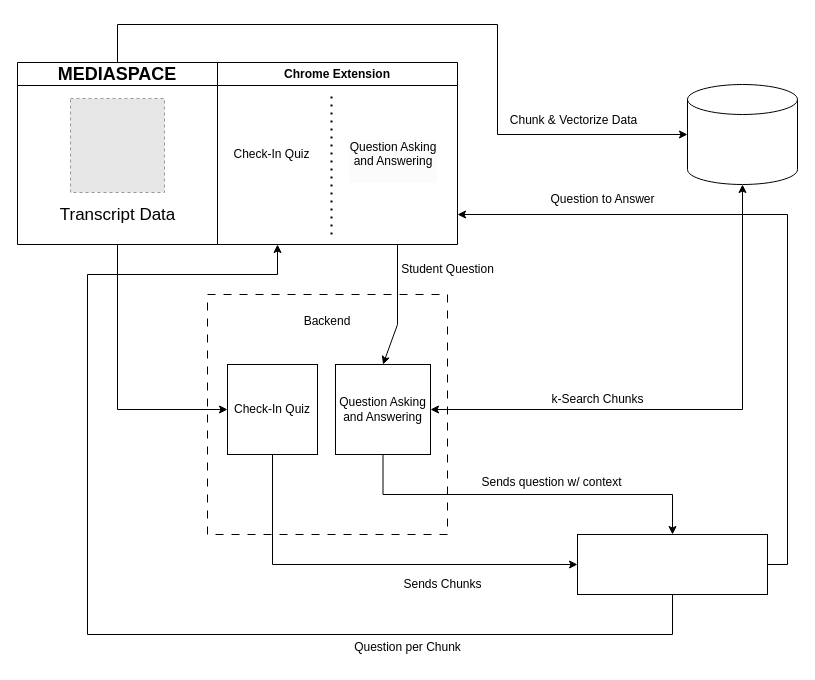
The diagram is 815 pixels wide and 680 high, and some of its shapes have lost their labels. Grey dashed boxes stand in for pictures. Here are the shapes that lost their labels. From the top down, the box of each, then its label:
(686, 84, 798, 184): VectorDB
(576, 534, 768, 594): GPT-3.5-TURBO 🚀
